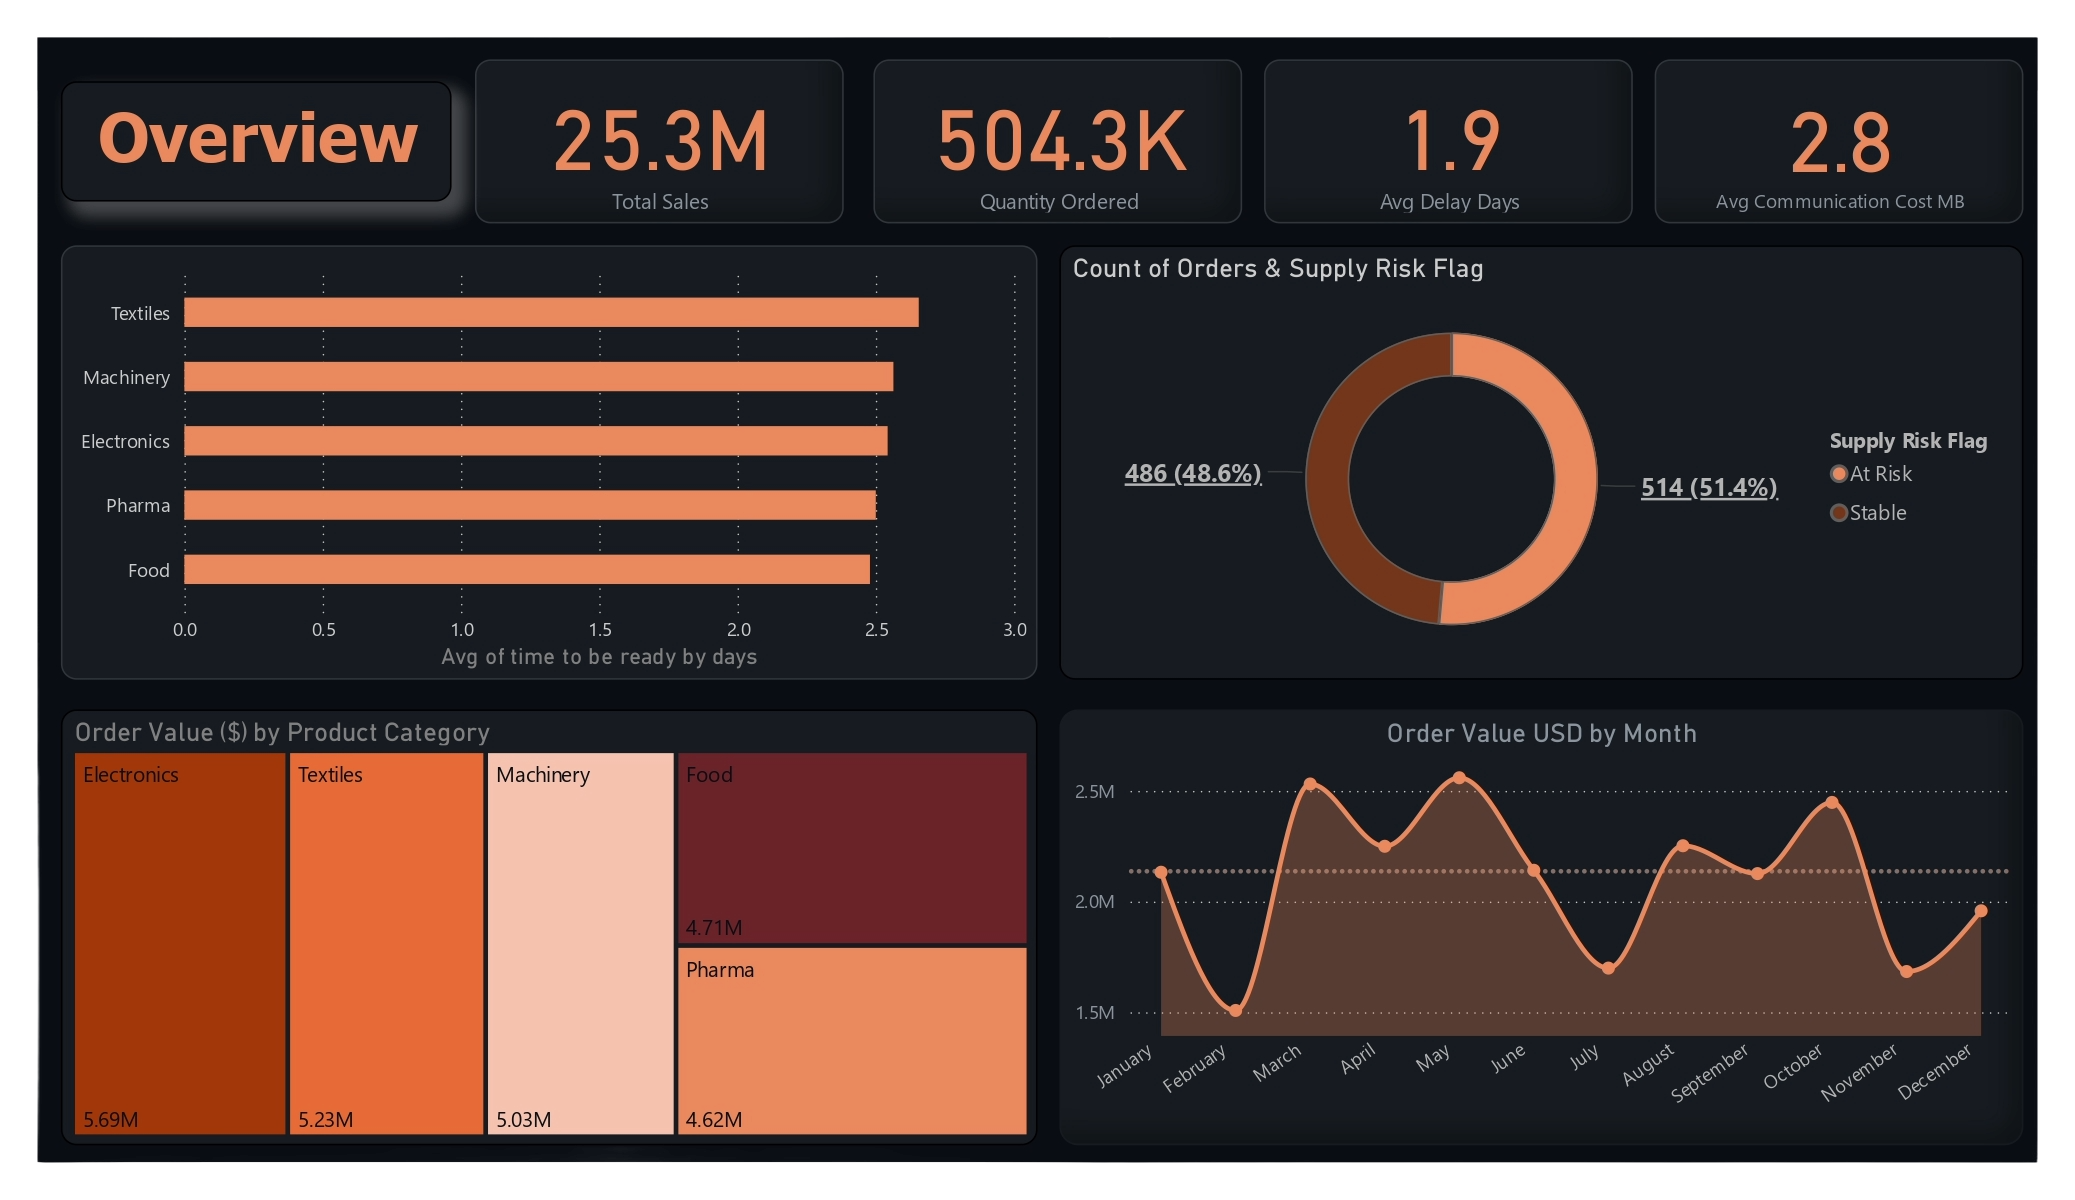

The dashboard page shown, as its layout file describes it:
{"tool":"powerbi","page":{"name":"Overview","canvas":[1280,720],"ordinal":0},"visuals":[{"type":"card","fields":{"Values":["Table1.Total Sales"]},"box":[280,13.8,236.2,105],"z":0},{"type":"card","fields":{"Values":["Avg(Table1.Communication_Cost_MB)"]},"box":[1035,13.8,236.2,105],"z":1000},{"type":"areaChart","title":"Order Value USD by Month","fields":{"Category":["Table1.Order_Date.Variation.Date Hierarchy.Month"],"Y":["Sum(Table1.Order_Value_USD)"]},"box":[653.8,430,617.5,278.8],"z":2000},{"type":"donutChart","title":"Count of Orders & Supply Risk Flag","fields":{"Category":["Table1.Supply_Risk_Flag"],"Y":["CountNonNull(Table1.Order_ID)"]},"box":[653.8,132.5,617.5,278.8],"z":3000},{"type":"card","fields":{"Values":["Table1.Avg Delay"]},"box":[785,13.8,236.2,105],"z":4000},{"type":"card","fields":{"Values":["Sum(Table1.Quantity_Ordered)"]},"box":[535,13.8,236.2,105],"z":5000},{"type":"treemap","title":"Order Value ($) by Product Category","fields":{"Group":["Table1.Product_Category"],"Values":["Sum(Table1.Order_Value_USD)"]},"box":[15,430,625,278.8],"z":6000},{"type":"barChart","fields":{"Y":["Avg(Table1.time_to_be_ready)"],"Category":["Table1.Product_Category"]},"box":[15,132.5,625,278.8],"z":7000},{"type":"textbox","box":[15,27.5,250,77.5],"z":8000}]}

Visuals, with their boxes on the page's 1280x720 design canvas (x1, y1, x2, y2). These are canvas units, not pixel positions in the 2075x1200 screenshot, which may show the page scaled, cropped or inside an application window:
card - Table1.Total Sales: bbox=[280, 14, 516, 119]
card - Avg(Table1.Communication_Cost_MB): bbox=[1035, 14, 1271, 119]
"Order Value USD by Month" areaChart: bbox=[654, 430, 1271, 709]
"Count of Orders & Supply Risk Flag" donutChart: bbox=[654, 132, 1271, 411]
card - Table1.Avg Delay: bbox=[785, 14, 1021, 119]
card - Sum(Table1.Quantity_Ordered): bbox=[535, 14, 771, 119]
"Order Value ($) by Product Category" treemap: bbox=[15, 430, 640, 709]
barChart - Avg(Table1.time_to_be_ready) x Table1.Product_Category: bbox=[15, 132, 640, 411]
textbox: bbox=[15, 28, 265, 105]
